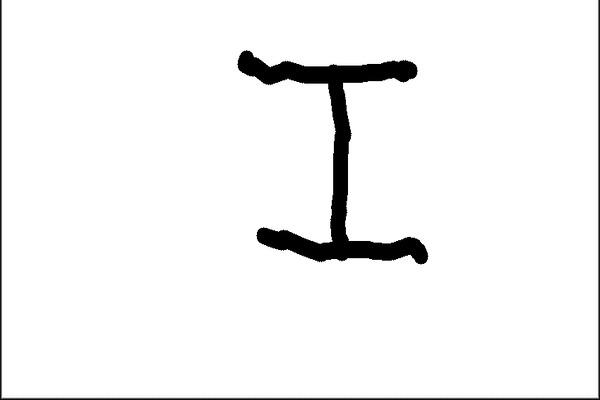i: (234, 36, 436, 270)
